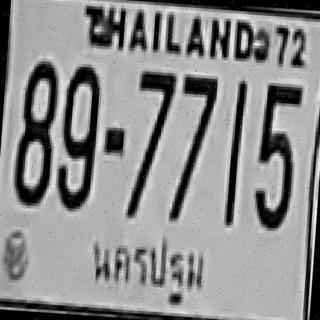N00: (60, 61, 101, 152)
N05: (255, 82, 300, 166)
N07: (132, 68, 176, 159), (176, 72, 217, 169), (133, 68, 176, 151), (178, 74, 216, 159)
N08: (14, 57, 58, 204)
N09: (54, 68, 100, 210), (54, 82, 100, 210)
P28: (84, 229, 208, 305)
